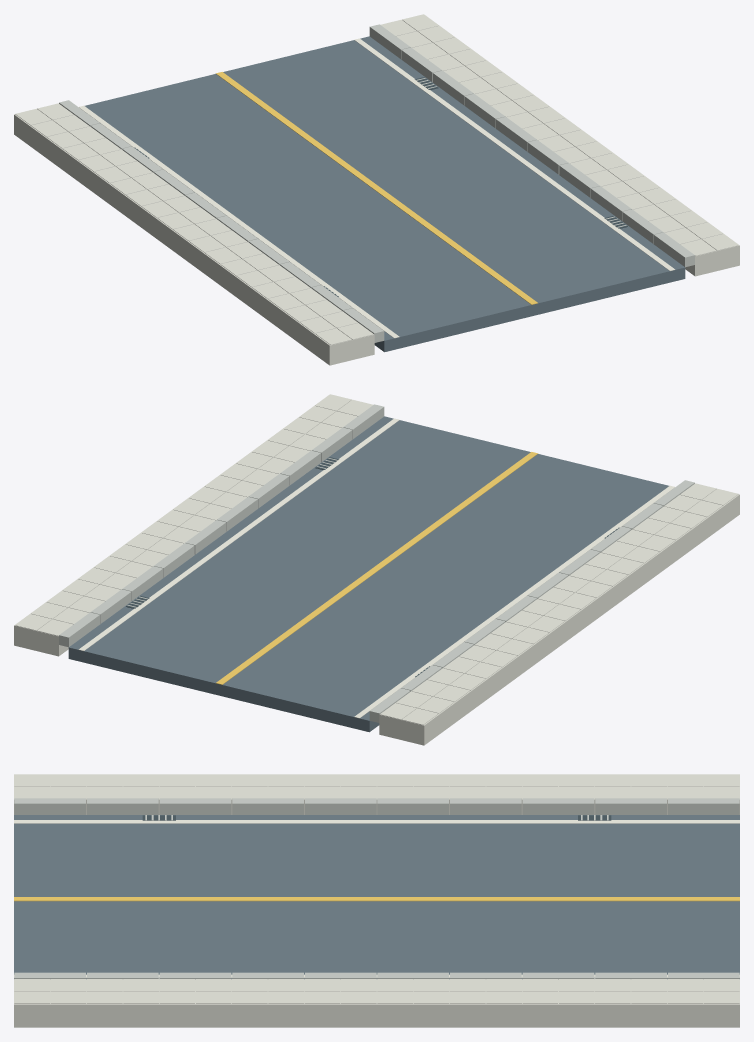
File: SIMUS_Road_Straight_10m.glb
3 views of the same model, one above another, from view 1: azimuth 30°, elevation 25°; view 2: azimuth 150°, elevation 25°; view 3: azimuth 270°, elevation 25° (orthographic). The views are drawn at different scales.
Visible parts, largest first — view 1: Road surface, Left paving, Right paving, Left sidewalk foundation, Right curb, Left curb, Yellow center line, Right white edge, Left white edge, Right sidewalk foundation; view 2: Road surface, Left paving, Right paving, Left sidewalk foundation, Right curb, Left curb, Yellow center line, Right white edge, Left white edge, Right sidewalk foundation; view 3: Road surface, Right paving, Left paving, Right sidewalk foundation, Left curb, Right curb, Yellow center line, Left white edge, Left sidewalk foundation.
Boxes of the visible parts, x1=… form: Road surface: x1=85, y1=36, x2=685, y2=352; Left paving: x1=15, y1=103, x2=373, y2=344; Right paving: x1=380, y1=14, x2=738, y2=256; Left sidewalk foundation: x1=14, y1=114, x2=374, y2=365; Right curb: x1=369, y1=24, x2=694, y2=267; Left curb: x1=59, y1=100, x2=384, y2=342; Yellow center line: x1=215, y1=72, x2=537, y2=304; Right white edge: x1=354, y1=38, x2=675, y2=270; Left white edge: x1=79, y1=105, x2=399, y2=338; Right sidewalk foundation: x1=424, y1=14, x2=739, y2=276; Road surface: x1=68, y1=416, x2=668, y2=732; Left paving: x1=380, y1=483, x2=738, y2=724; Right paving: x1=15, y1=394, x2=373, y2=636; Left sidewalk foundation: x1=379, y1=494, x2=739, y2=745; Right curb: x1=59, y1=404, x2=384, y2=647; Left curb: x1=369, y1=480, x2=694, y2=722; Yellow center line: x1=216, y1=452, x2=538, y2=684; Right white edge: x1=78, y1=418, x2=399, y2=650; Left white edge: x1=354, y1=485, x2=674, y2=718; Right sidewalk foundation: x1=14, y1=394, x2=329, y2=656; Road surface: x1=14, y1=815, x2=739, y2=979; Right paving: x1=14, y1=979, x2=739, y2=1003; Left paving: x1=14, y1=774, x2=739, y2=798; Right sidewalk foundation: x1=14, y1=979, x2=739, y2=1027; Left curb: x1=14, y1=798, x2=739, y2=814; Right curb: x1=14, y1=972, x2=739, y2=979; Yellow center line: x1=14, y1=897, x2=739, y2=901; Left white edge: x1=14, y1=820, x2=739, y2=823; Left sidewalk foundation: x1=14, y1=774, x2=739, y2=814.
Bounding box in the file's own units: 7.5 × 0.37 × 10.
